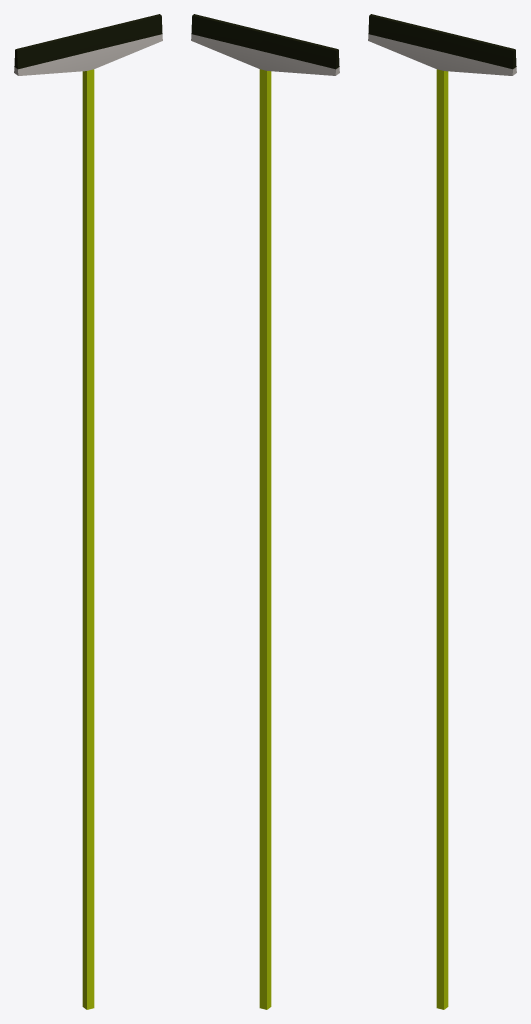
File: Long_Tool.fbx
3 renders of one model, left to right at view 1: azimuth 30°, elevation 25°; view 2: azimuth 150°, elevation 25°; view 3: azimuth 330°, elevation 25°, orthographic.
Parts seen in each view (by area): view 1: Long_Tool; view 2: Long_Tool; view 3: Long_Tool.
Part boxes in pixels (x1=…): Long_Tool: x1=14, y1=14, x2=162, y2=1009; Long_Tool: x1=191, y1=14, x2=339, y2=1009; Long_Tool: x1=368, y1=14, x2=516, y2=1009.
Size of the model in its own units: 19.33 by 125 by 1.
